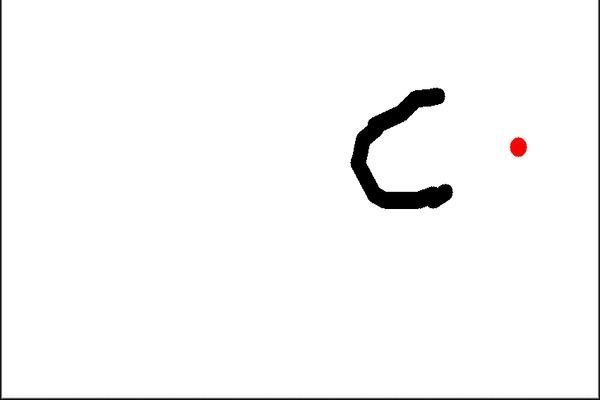C: (343, 82, 456, 213), (344, 81, 450, 210)
